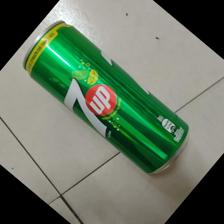7up: (22, 20, 191, 177)
